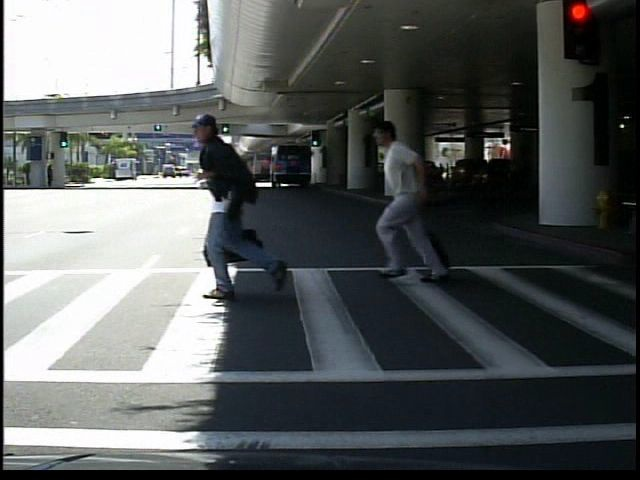person: (191, 115, 277, 302), (380, 112, 444, 285)
